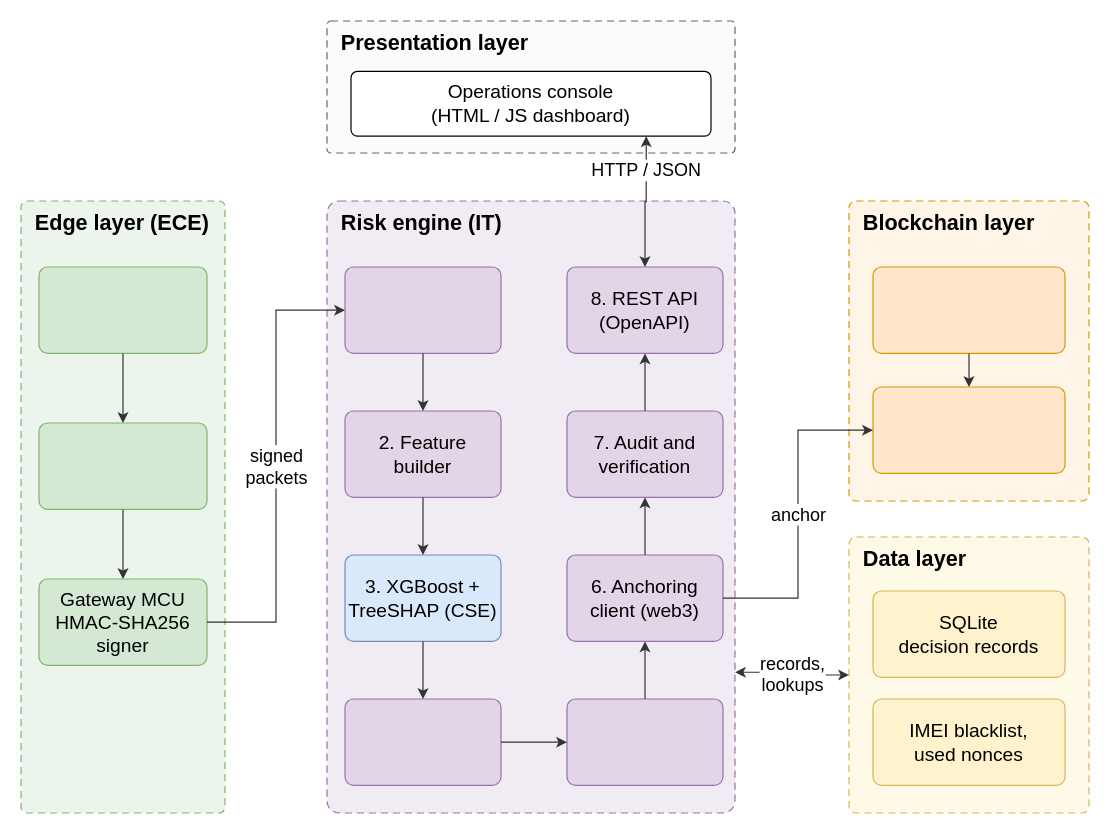
This 1110x834 diagram has some shape labels left out. The centre of each missing label's shape, as x and y in pixels:
"1. Telemetry verifier" goes at point (422, 309).
"4. Rules and 3-tier policy" goes at point (422, 741).
"5. Hashing and record store" goes at point (644, 741).
"Ethereum node (Ganache / Sepolia)" goes at point (968, 309).
"Handset / SIM slot" goes at point (122, 309).
"SIM800L modem (AT commands)" goes at point (122, 465).
"SIMSwapAuditLog (Solidity 0.8.24)" goes at point (968, 429).
